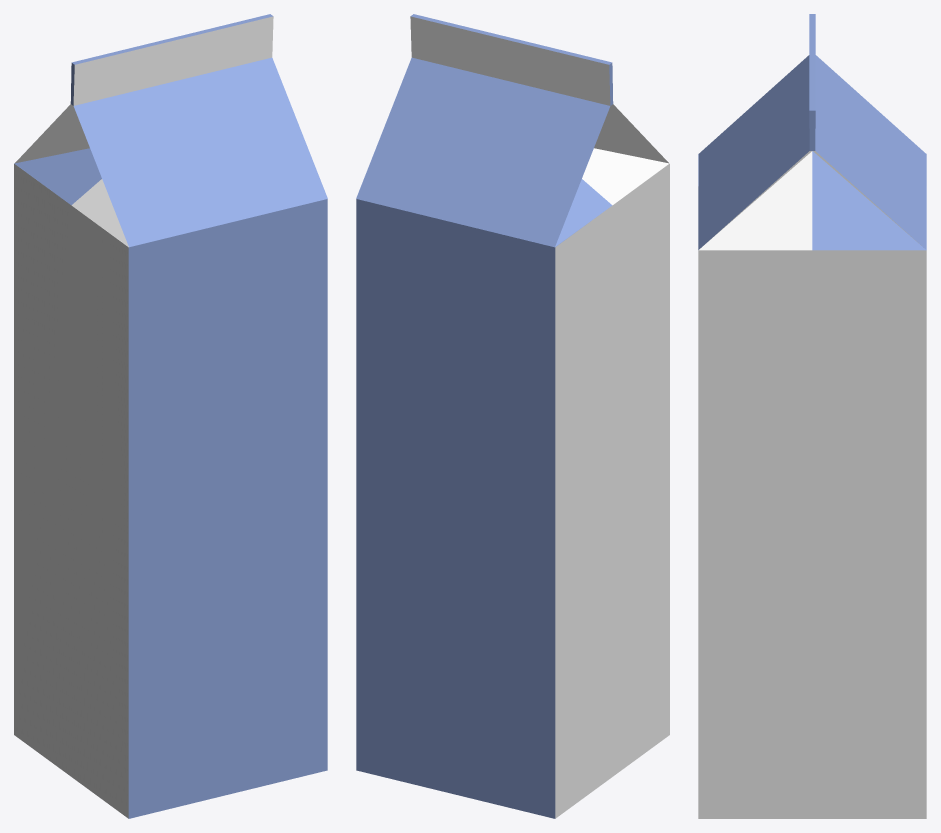
File: milk.dae
The picture shows the model from 3 angles, left to right: view 1: azimuth 30°, elevation 25°; view 2: azimuth 150°, elevation 25°; view 3: azimuth 270°, elevation 25°; orthographic projection.
Parts seen in each view (by area): view 1: Cube; view 2: Cube; view 3: Cube.
Boxes of the visible parts, <box> form: Cube: <box>14,14,327,818</box>; Cube: <box>356,14,669,818</box>; Cube: <box>698,14,926,818</box>.
Size of the model in its own units: 2.02 by 2 by 6.85.
